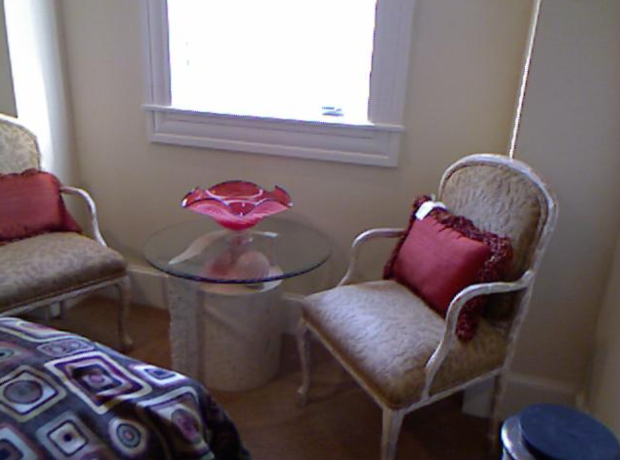chair: (364, 155, 546, 448), (0, 114, 130, 319)
window: (169, 0, 374, 106)
